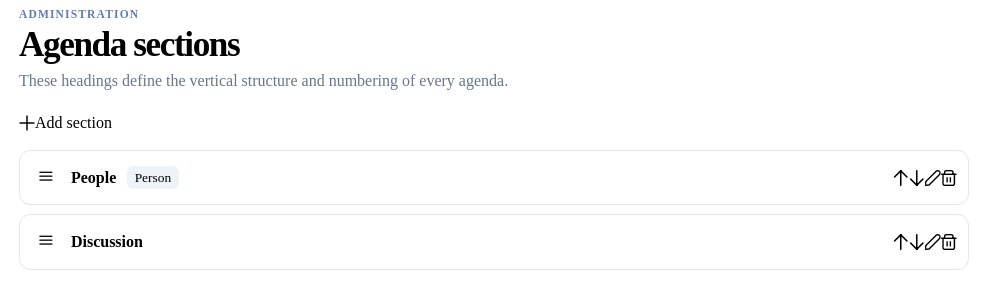
Test case: Agenda section configuration › offers keyboard ordering and restores server order on failure
Click the button named "Move People down": (917,178) x1=909 y1=169 x2=925 y2=187
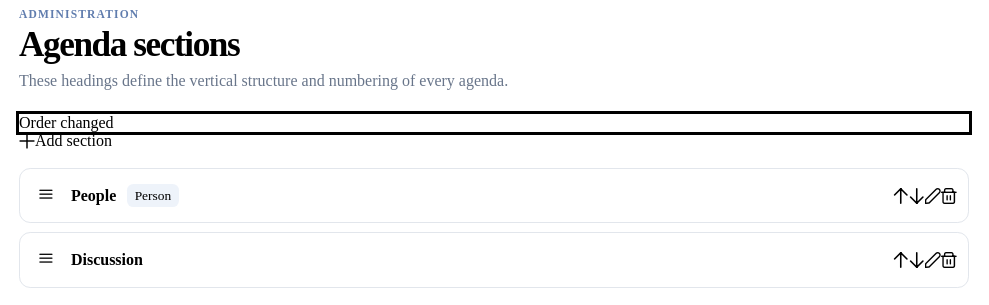
Result: the text "Order changed" is shown at x1=19 y1=114 x2=114 y2=132
